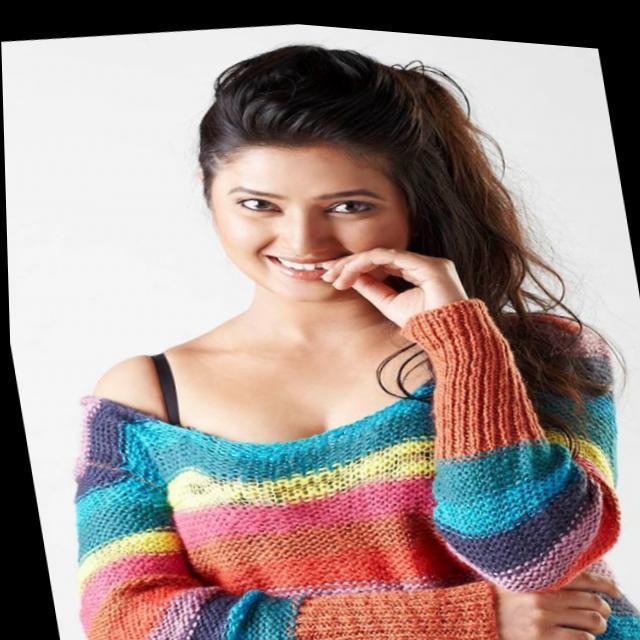Nonhelmet: (210, 80, 412, 302)
